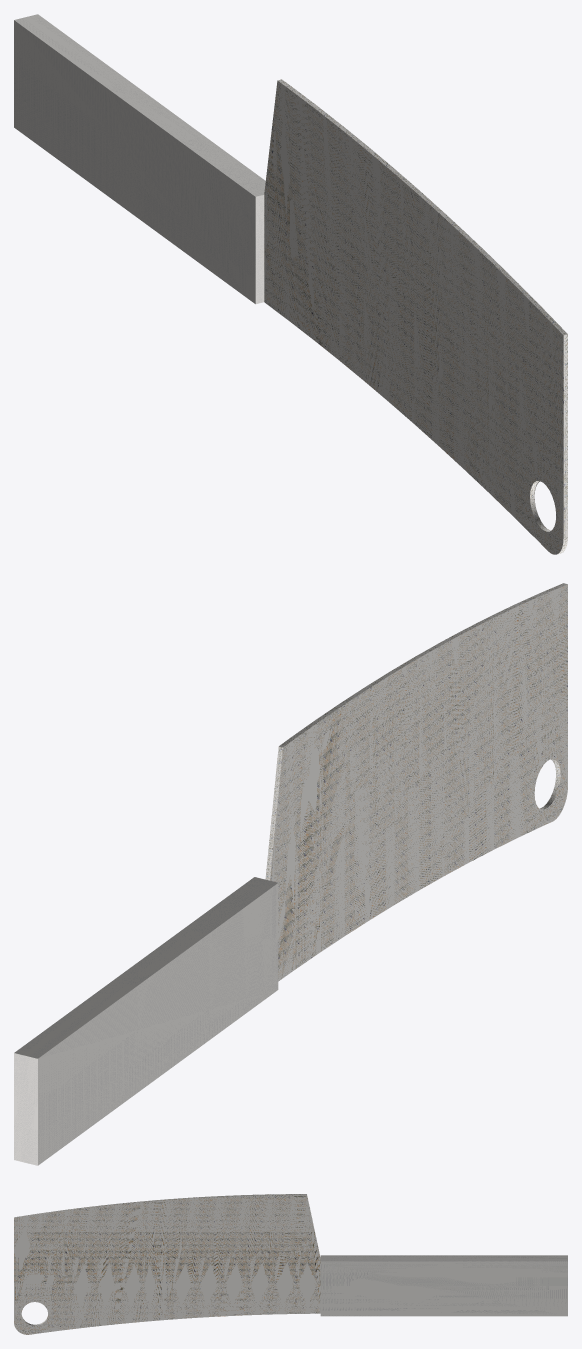
Rendered from model_scale.obj.
3 renders of one model, top to bottom at view 1: azimuth 30°, elevation 25°; view 2: azimuth 150°, elevation 25°; view 3: azimuth 270°, elevation 25°, orthographic. The views are drawn at different scales.
Visible parts, largest first — view 1: mesh1_mesh1-geometry; view 2: mesh1_mesh1-geometry; view 3: mesh1_mesh1-geometry.
Part boxes in pixels (x1,y1,x2,y2): mesh1_mesh1-geometry: [14, 14, 567, 554]; mesh1_mesh1-geometry: [14, 583, 567, 1165]; mesh1_mesh1-geometry: [14, 1194, 567, 1334].
Size of the model in its own units: 0.00546 by 0.0594 by 0.2133.
